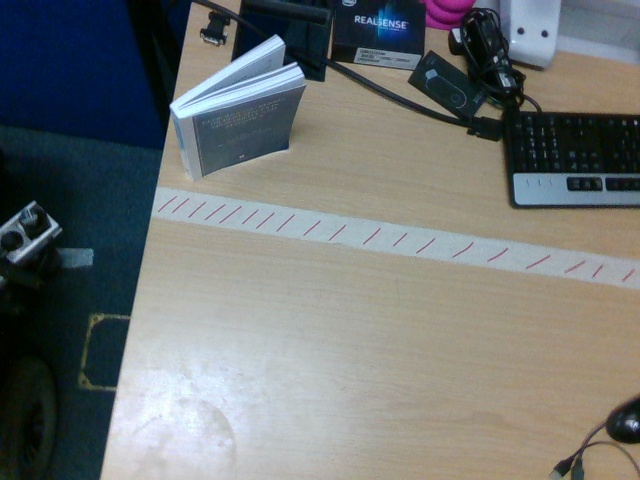book: (170, 33, 305, 181)
